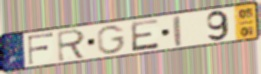9: (206, 10, 231, 43)
E: (129, 17, 161, 53)
F: (27, 31, 55, 66)
G: (96, 24, 127, 55)
I: (172, 14, 184, 48)
R: (56, 28, 88, 63)
